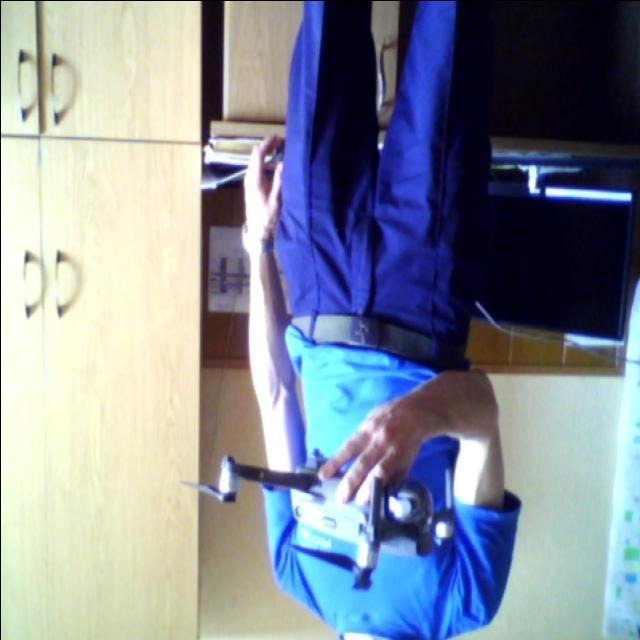drone: (191, 434, 474, 600)
